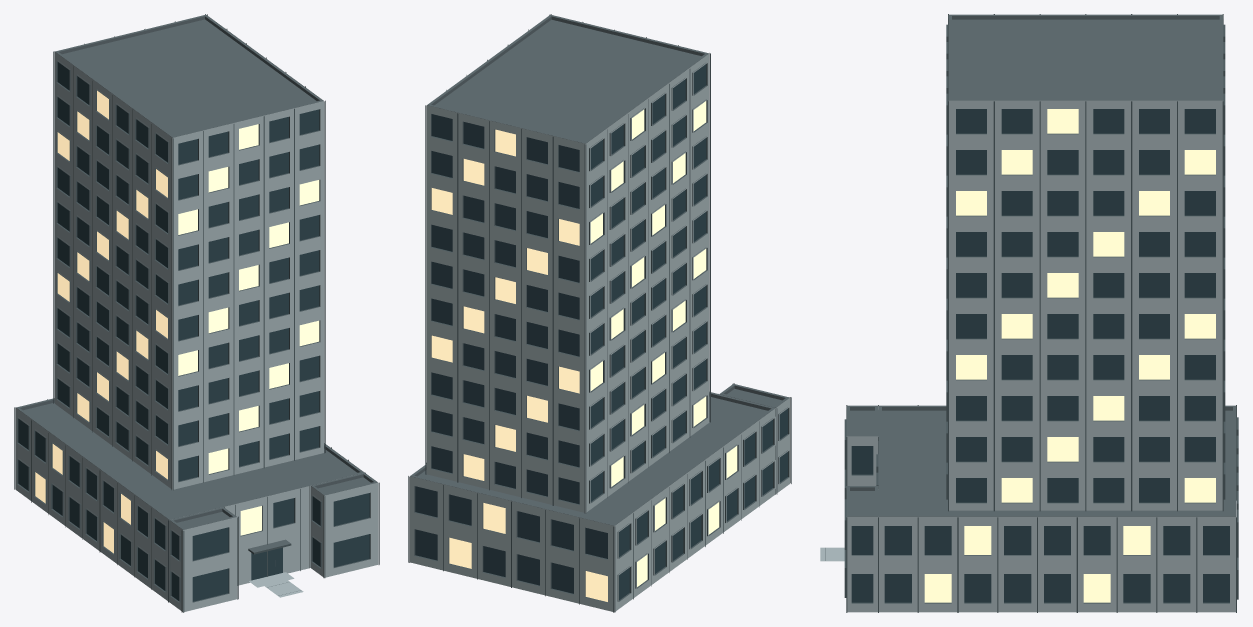
File: city-block-office.glb
The picture shows the model from 3 angles, left to right: view 1: azimuth 30°, elevation 25°; view 2: azimuth 150°, elevation 25°; view 3: azimuth 270°, elevation 25°; orthographic projection. The views are drawn at different scales.
Visible parts, largest first — view 1: office_lod0; view 2: office_lod0; view 3: office_lod0.
Boxes of the visible parts, left/top/right/bottom form: office_lod0: left=14, top=14, right=379, bottom=612; office_lod0: left=408, top=14, right=791, bottom=612; office_lod0: left=820, top=14, right=1238, bottom=612.
Size of what is drawn, in the model's own units: 20.17 by 42.22 by 31.65.
